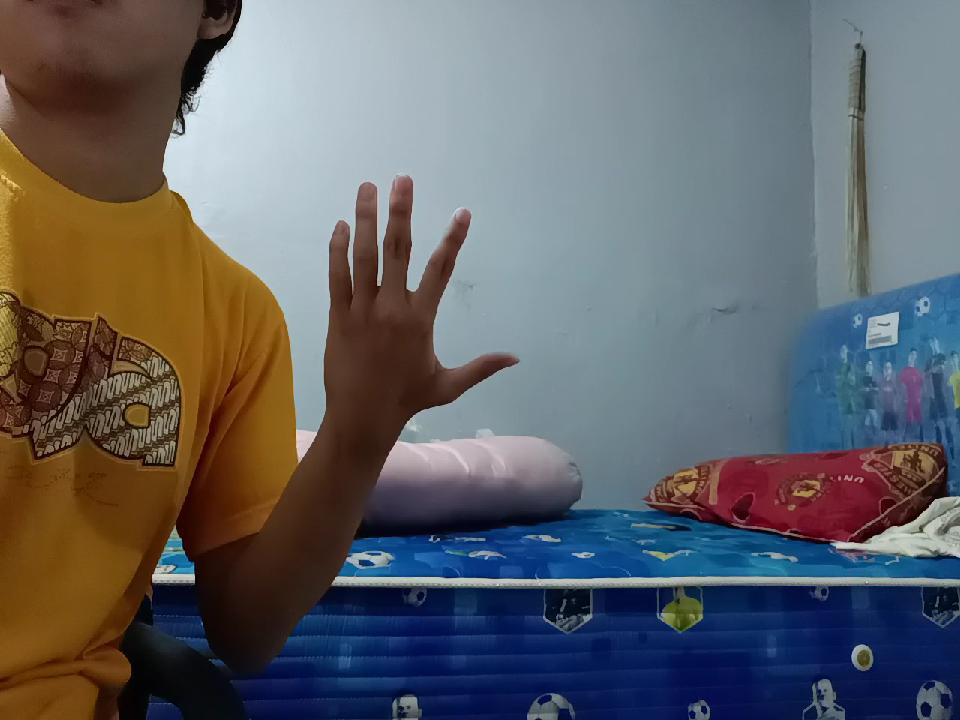paper: (322, 182, 506, 434)
